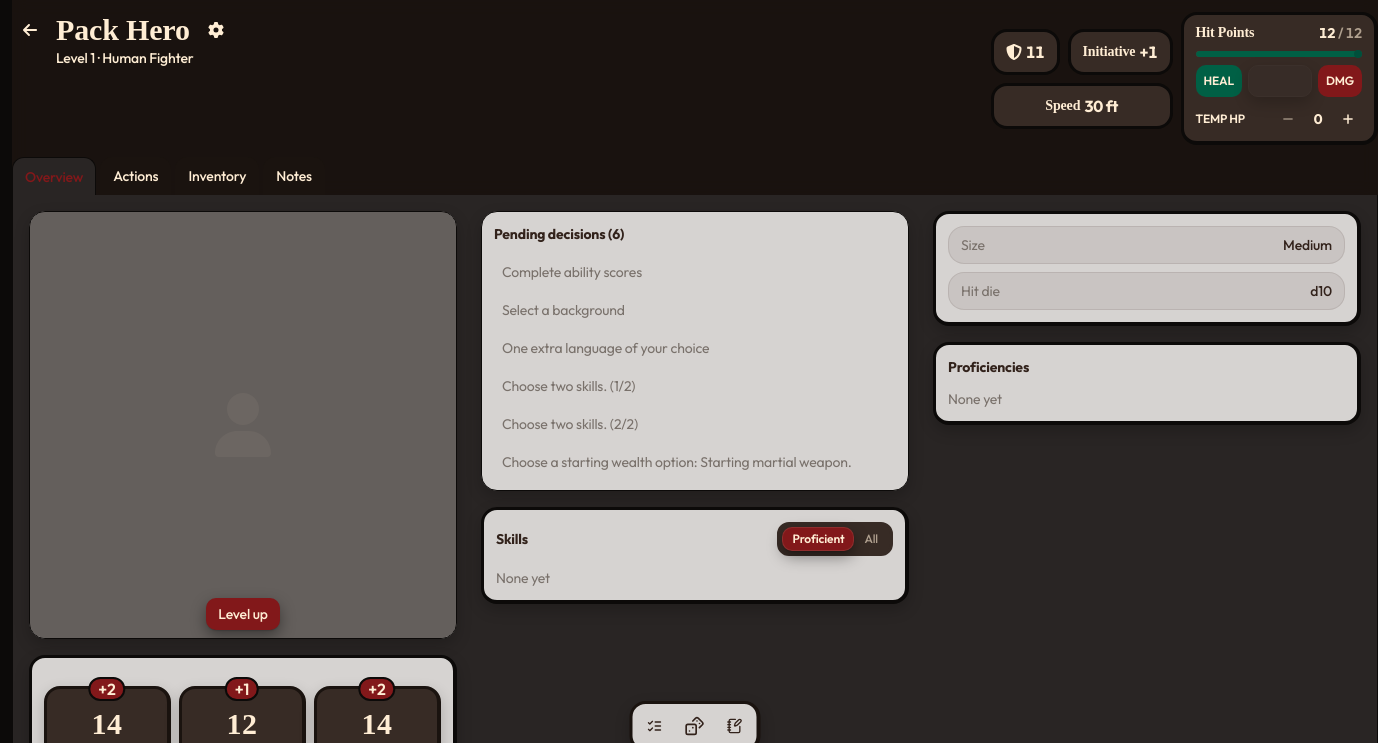
PlayerSheet inventory tab › opens inventory content instead of coming soon
Click the tab "Inventory": {"x": 217, "y": 176} [175,157,259,195]
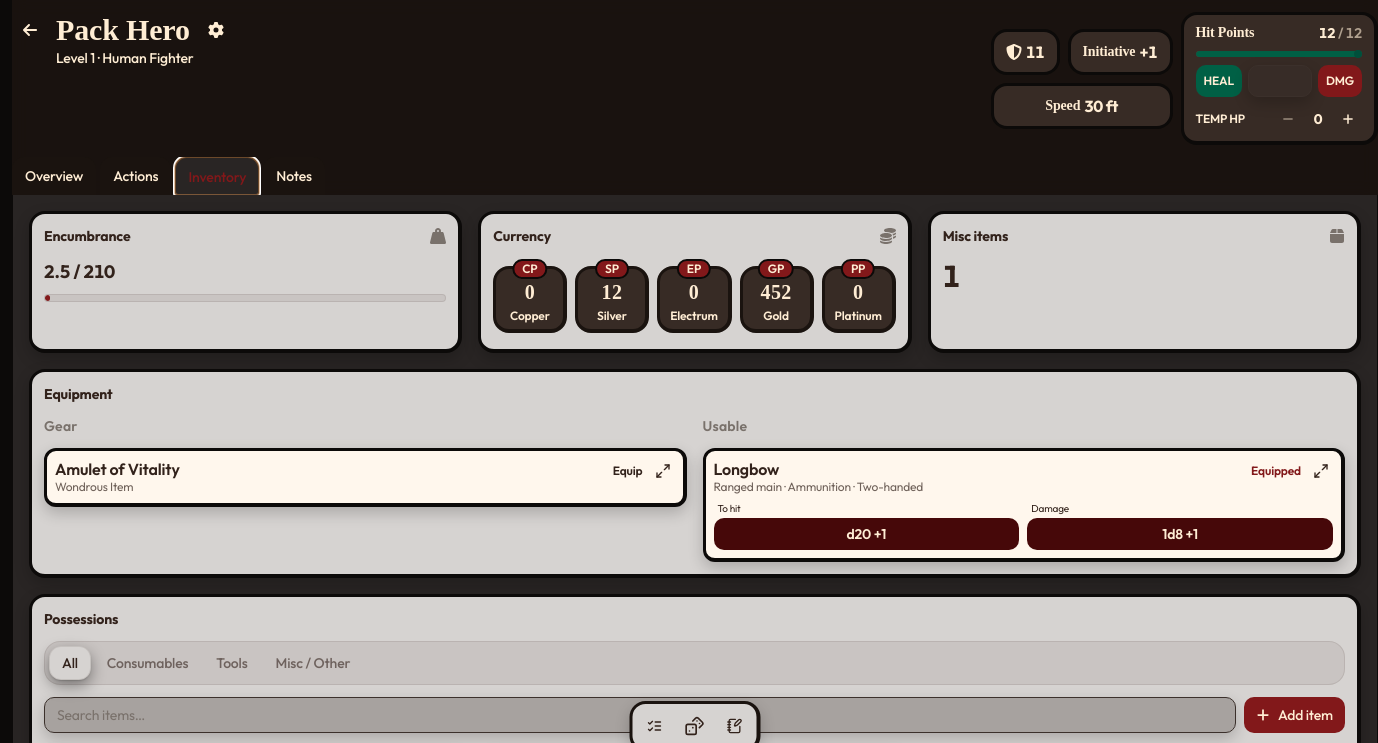
Check: the text "Encumbrance" is shown, box [44,226,130,246]
